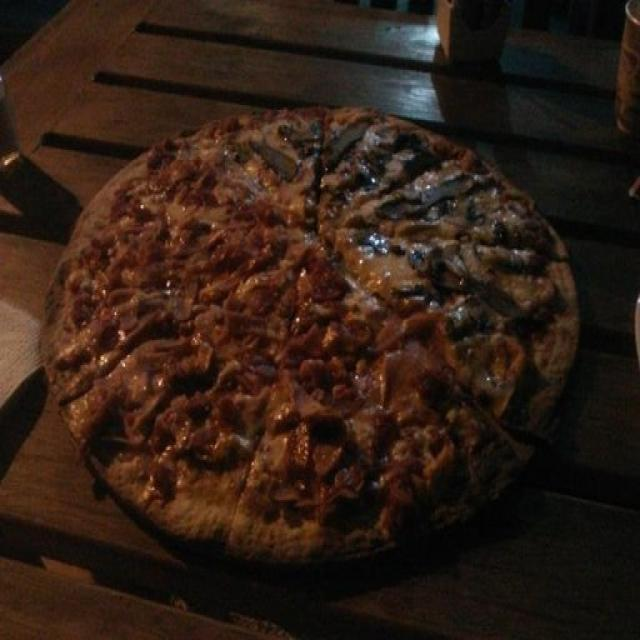Basil: (377, 175, 476, 222), (409, 250, 471, 297), (323, 110, 371, 166), (245, 130, 298, 180), (514, 294, 572, 337), (457, 340, 503, 393), (392, 142, 441, 185), (472, 280, 524, 319), (339, 158, 378, 200), (451, 300, 494, 337), (370, 133, 424, 162), (396, 282, 447, 312), (282, 116, 310, 156), (361, 232, 400, 258)
Ham: (350, 316, 435, 403), (99, 338, 163, 397), (154, 147, 222, 193), (188, 397, 236, 448), (206, 307, 278, 339), (297, 275, 336, 333), (94, 292, 144, 336), (215, 353, 262, 398), (319, 320, 374, 354), (133, 390, 162, 446), (282, 333, 326, 368), (203, 234, 248, 268), (138, 292, 186, 320), (318, 476, 364, 505), (180, 224, 222, 252), (285, 376, 318, 411), (160, 355, 214, 376), (274, 484, 320, 508), (137, 257, 170, 281), (298, 359, 323, 383), (114, 223, 160, 234), (144, 240, 163, 266), (325, 360, 346, 376), (330, 385, 347, 402)
Pizza: (41, 108, 579, 563)
